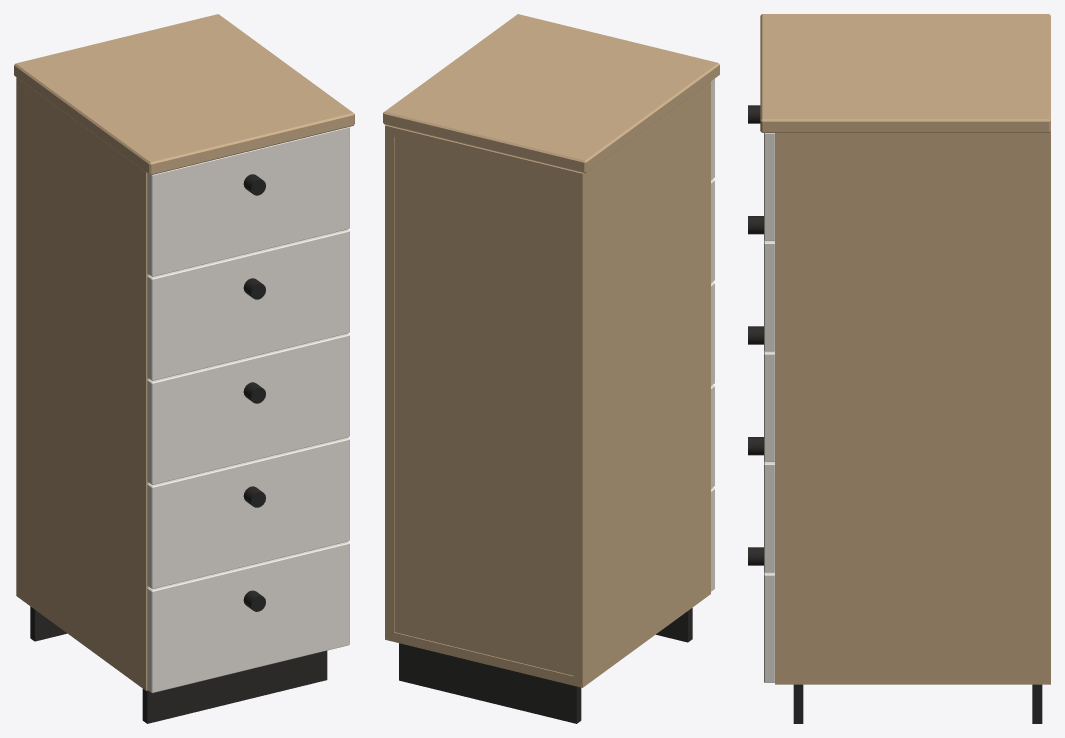
Rendered from 02_komoda_40_5sz.glb.
3 renders of one model, left to right at view 1: azimuth 30°, elevation 25°; view 2: azimuth 150°, elevation 25°; view 3: azimuth 270°, elevation 25°, orthographic. The views are drawn at different scales.
Visible parts, largest first — view 1: Korpus, Wierzch, Front_szuflada_2, Front_szuflada_3, Front_szuflada_4, Front_szuflada_5, Front_szuflada_1, Cokol, Uchwyty; view 2: Korpus, Wierzch, Cokol; view 3: Korpus, Wierzch, Uchwyty, Front_szuflada_2, Front_szuflada_4, Front_szuflada_3, Front_szuflada_5, Front_szuflada_1, Cokol.
Boxes of the visible parts, <box> form: Korpus: <box>16,77,148,690</box>; Wierzch: <box>14,14,354,175</box>; Front_szuflada_2: <box>147,229,349,380</box>; Front_szuflada_3: <box>147,333,349,484</box>; Front_szuflada_4: <box>147,437,349,588</box>; Front_szuflada_5: <box>147,541,349,693</box>; Front_szuflada_1: <box>147,127,349,276</box>; Cokol: <box>30,606,327,723</box>; Uchwyty: <box>243,174,265,611</box>; Korpus: <box>385,81,710,687</box>; Wierzch: <box>383,14,719,173</box>; Cokol: <box>399,608,692,723</box>; Korpus: <box>775,131,1050,684</box>; Wierzch: <box>760,14,1050,132</box>; Uchwyty: <box>748,105,763,565</box>; Front_szuflada_2: <box>764,240,774,351</box>; Front_szuflada_4: <box>764,461,774,572</box>; Front_szuflada_3: <box>764,351,774,461</box>; Front_szuflada_5: <box>764,572,774,682</box>; Front_szuflada_1: <box>764,133,774,240</box>; Cokol: <box>793,684,1042,723</box>.
Bounding box in the file's own units: 0.412 × 1.1 × 0.494.
